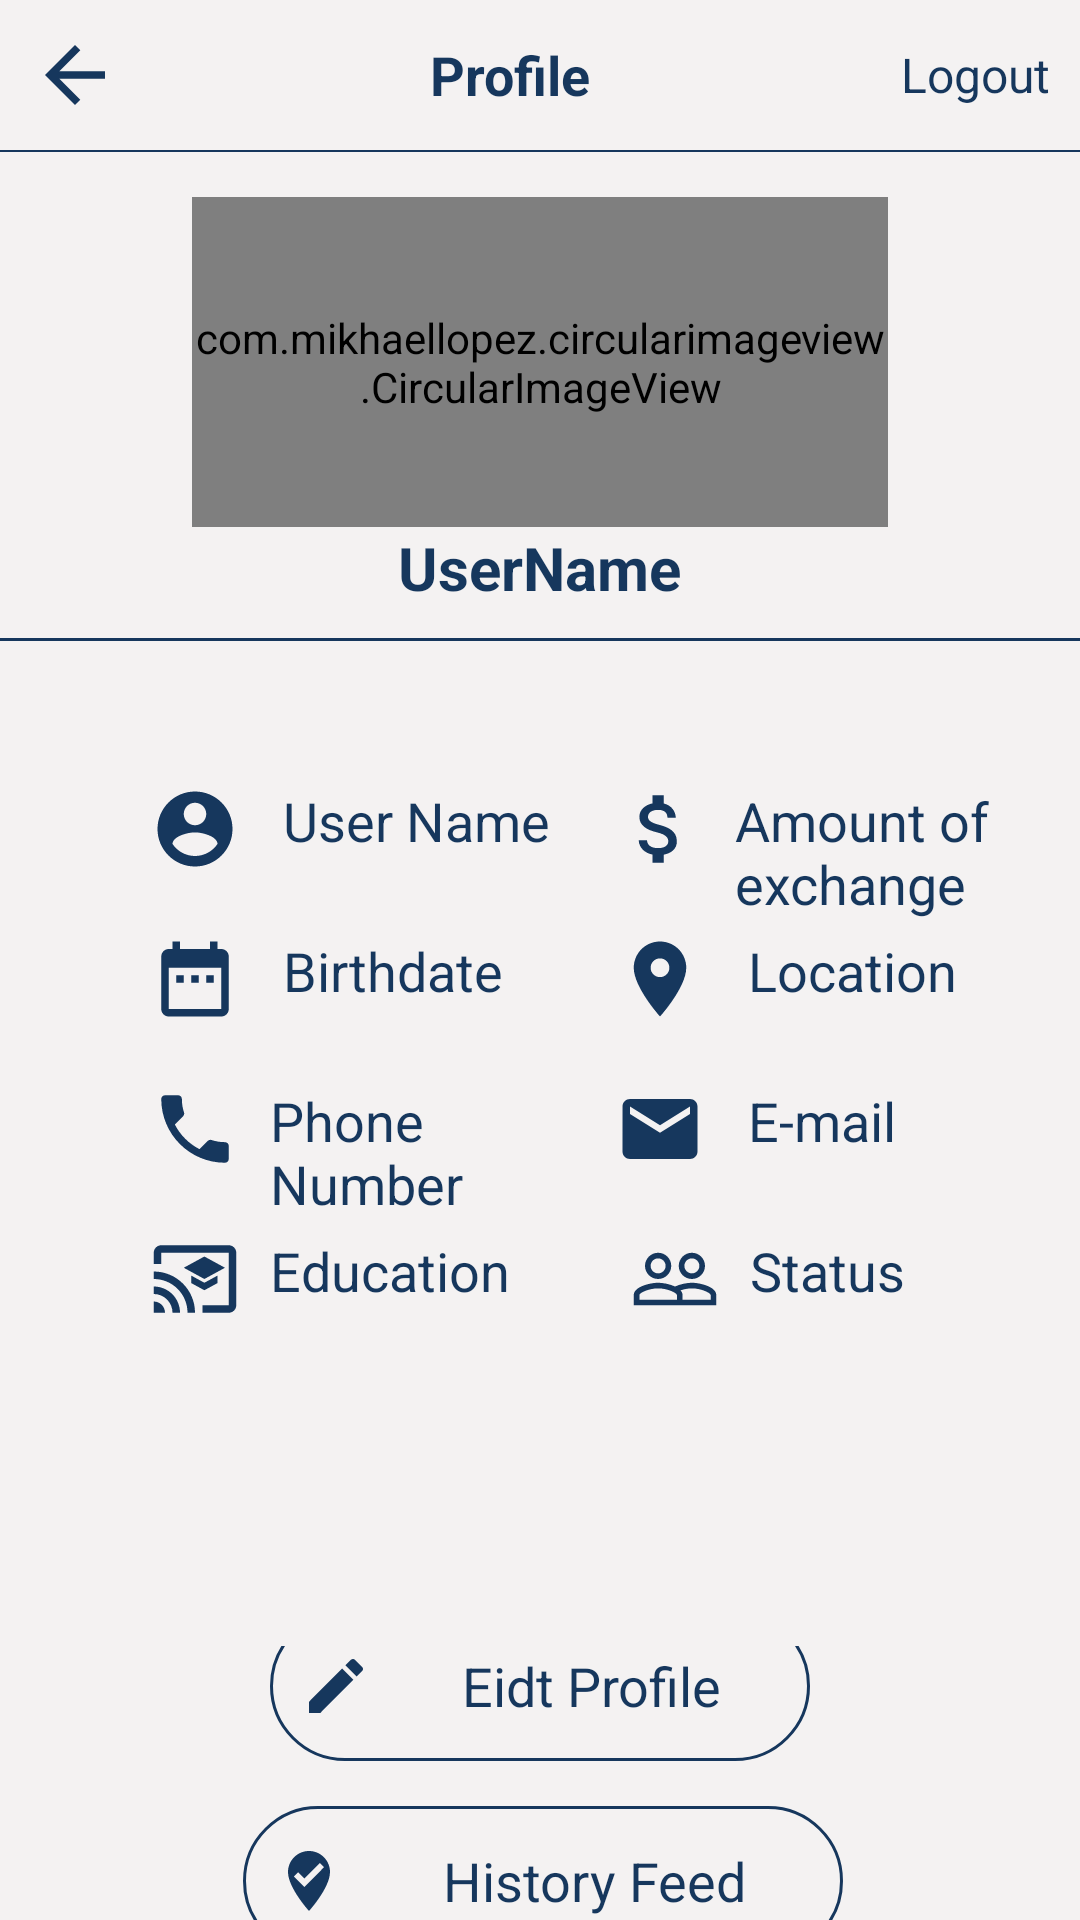

Icons on this 1080*1920 Android screen, each with the point to tap as point (x, y):
account circle: point (195, 829)
arrow back: point (75, 75)
attach money: point (657, 829)
date range: point (195, 979)
